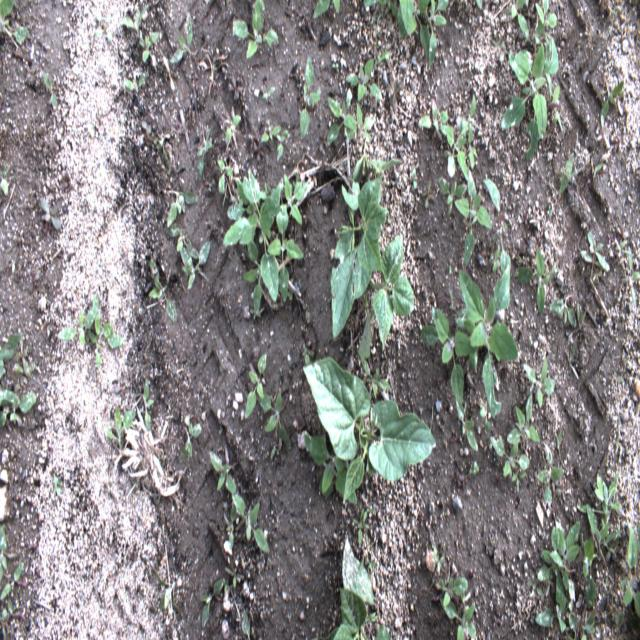crop: (303, 355, 436, 505), (331, 172, 389, 338), (359, 233, 415, 361), (323, 536, 377, 639), (341, 156, 403, 211), (375, 622, 391, 639)
weed: (455, 264, 518, 418), (222, 167, 280, 304), (500, 31, 559, 160), (420, 306, 480, 404), (302, 433, 358, 506), (267, 203, 305, 304), (454, 169, 492, 265), (585, 503, 616, 610), (514, 248, 560, 316), (576, 470, 620, 534), (88, 294, 123, 371), (484, 178, 511, 275), (233, 0, 277, 59), (231, 489, 269, 554), (535, 572, 575, 632), (536, 524, 570, 590), (259, 390, 292, 451), (506, 391, 540, 449), (148, 260, 176, 328), (300, 57, 322, 143), (325, 87, 357, 146), (619, 525, 639, 618), (242, 232, 263, 318), (536, 444, 564, 508), (523, 356, 556, 410), (343, 58, 383, 101), (279, 171, 308, 227), (358, 354, 392, 401), (426, 0, 449, 69), (581, 230, 610, 284), (440, 124, 467, 182), (179, 242, 211, 290), (491, 437, 530, 476), (439, 598, 476, 639), (550, 518, 580, 568), (244, 352, 266, 420), (152, 564, 181, 614), (163, 219, 200, 258), (57, 308, 97, 344), (408, 0, 430, 65), (226, 176, 258, 220), (456, 396, 480, 452), (437, 176, 468, 219), (0, 392, 37, 428), (0, 0, 30, 44), (168, 188, 200, 229), (208, 450, 236, 495), (178, 412, 202, 463), (200, 577, 224, 628), (344, 102, 376, 140), (170, 11, 193, 63), (105, 405, 136, 442), (504, 0, 530, 41), (419, 97, 448, 133), (558, 153, 582, 195), (196, 125, 213, 184), (120, 5, 148, 40), (599, 82, 624, 120), (460, 94, 481, 139), (0, 331, 20, 378), (439, 574, 468, 606), (0, 561, 23, 600), (40, 196, 64, 232), (550, 295, 577, 327), (375, 2, 390, 59), (137, 27, 160, 62), (148, 134, 170, 170), (577, 533, 594, 578), (0, 598, 19, 638), (13, 334, 30, 376), (397, 0, 414, 42), (628, 247, 639, 310), (352, 506, 369, 546), (142, 380, 155, 432), (389, 72, 405, 113), (216, 158, 234, 194), (535, 0, 557, 28), (95, 9, 113, 43), (225, 500, 237, 549), (363, 0, 398, 16), (468, 124, 480, 170), (552, 84, 563, 134), (42, 72, 56, 111), (565, 341, 579, 380), (224, 114, 240, 148), (260, 124, 282, 148), (581, 607, 597, 639), (161, 56, 176, 90), (420, 178, 436, 208), (479, 396, 491, 434), (0, 528, 8, 584), (615, 612, 638, 630), (276, 129, 288, 162), (526, 575, 544, 597), (228, 72, 242, 100), (142, 112, 158, 136), (224, 566, 241, 588), (124, 72, 144, 90), (511, 460, 527, 482), (592, 158, 604, 187), (258, 181, 277, 199), (312, 0, 330, 19), (374, 48, 392, 66), (433, 545, 444, 574), (14, 360, 36, 374), (302, 342, 313, 370), (0, 389, 18, 406), (577, 303, 588, 328), (490, 247, 500, 273), (568, 612, 578, 638), (615, 239, 631, 255), (0, 167, 8, 197), (606, 541, 617, 561), (535, 17, 543, 44), (262, 86, 276, 99), (468, 460, 479, 476), (53, 476, 62, 495), (492, 36, 506, 48), (332, 1, 340, 17), (412, 165, 417, 188), (556, 432, 562, 448), (476, 0, 482, 10)
